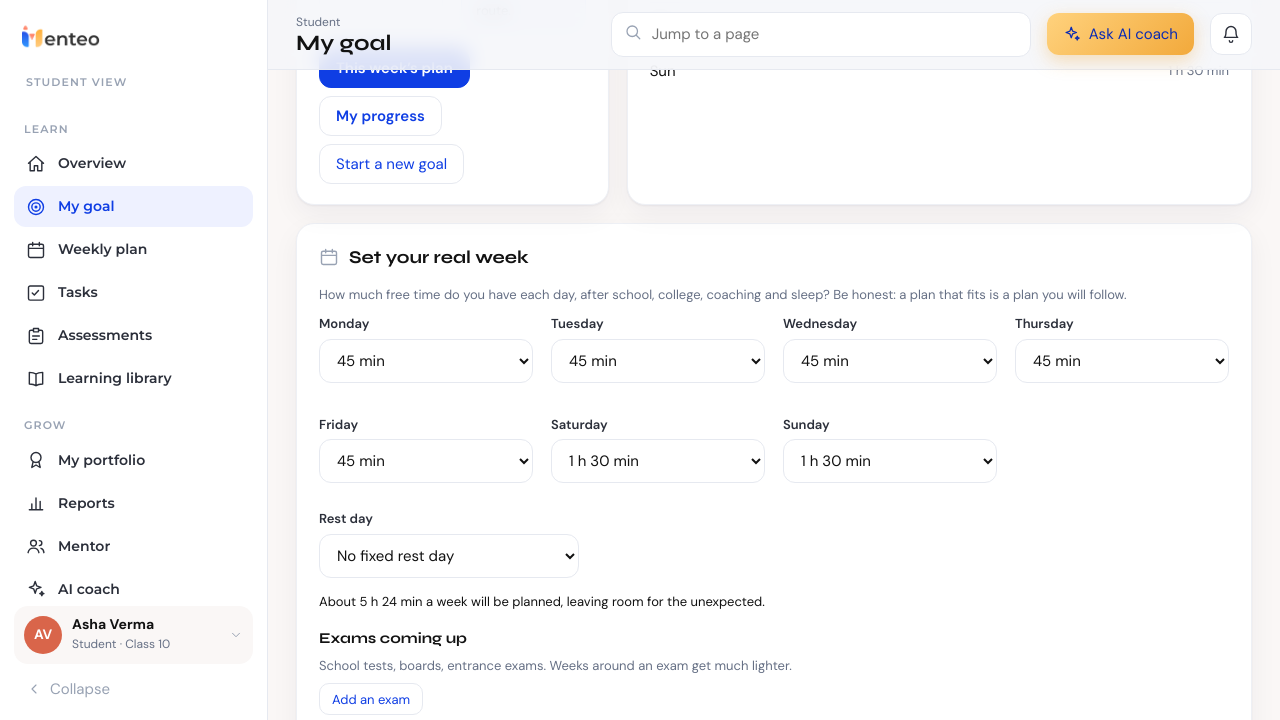
my goal with a plan › shows start and end points and the current phase only, and saves the real week
(page scrolled)
Select "1 h 30 min" in the dropdown labelled "Monday" at (426, 361), box [319,339,533,383]
(page scrolled)
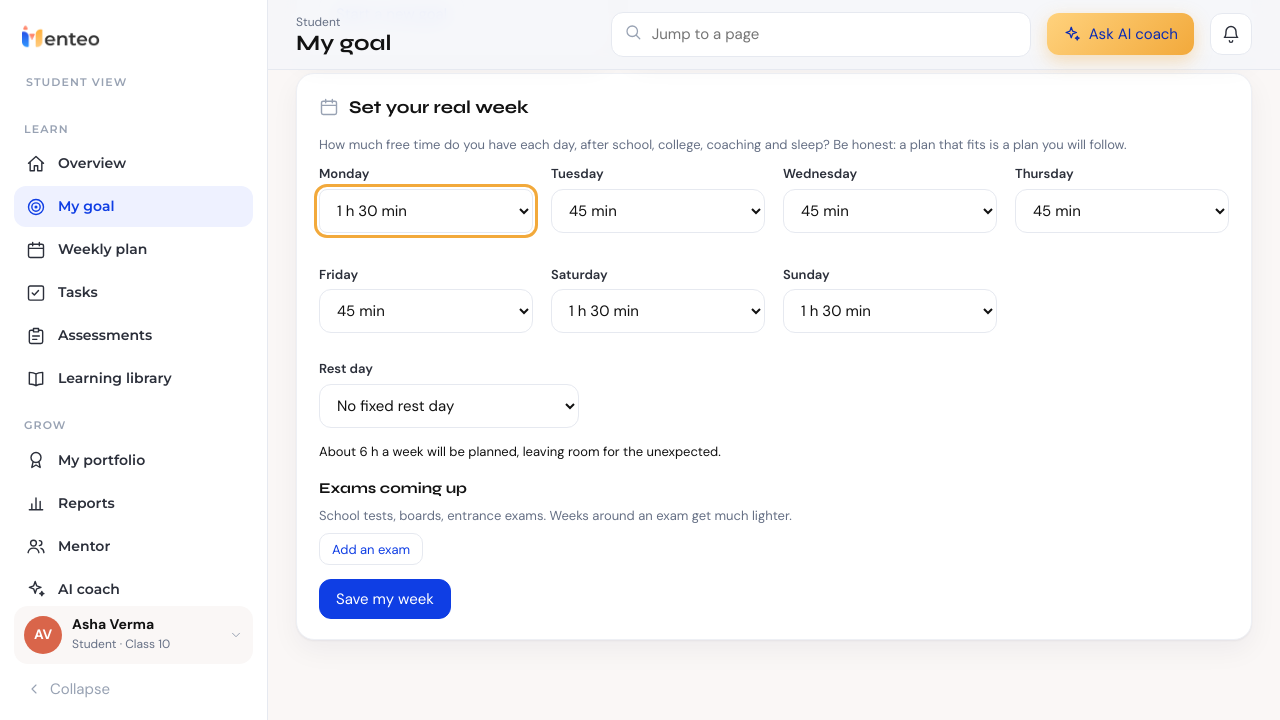
Click the button "Save my week" at (385, 599), box [319,579,451,619]
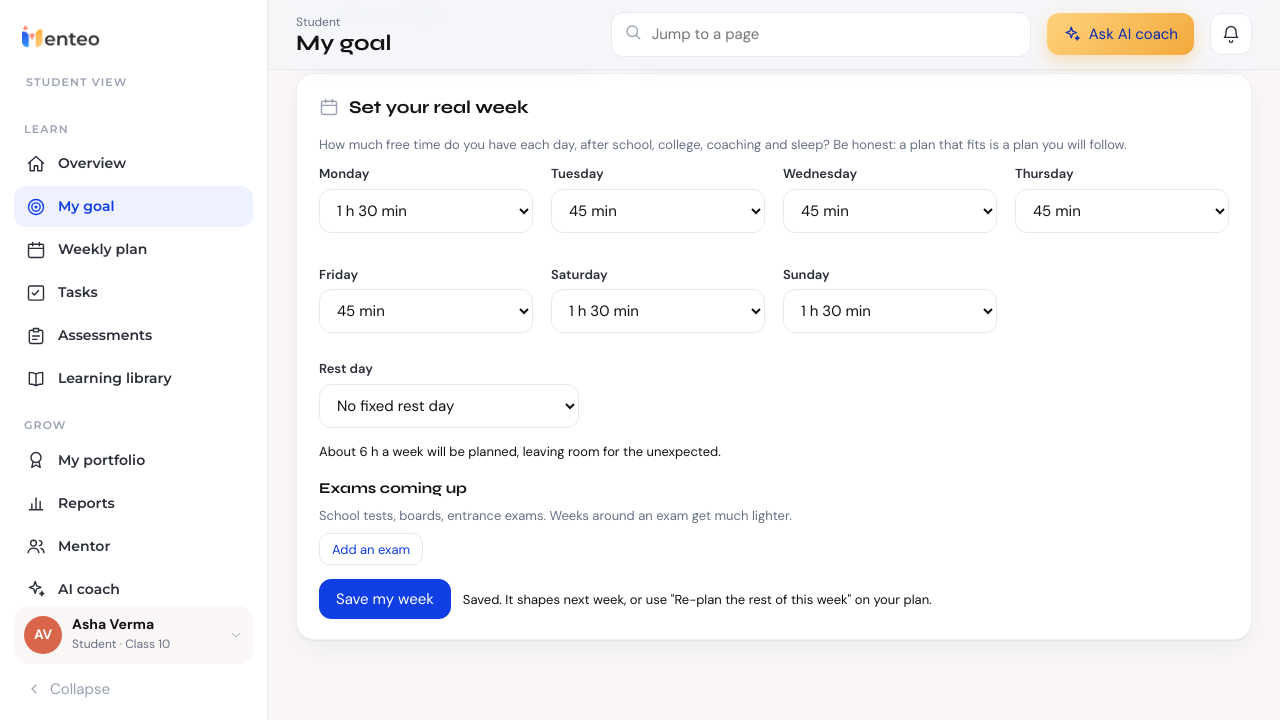
Result: the text "It shapes next week" is shown at [463,591,932,608]
